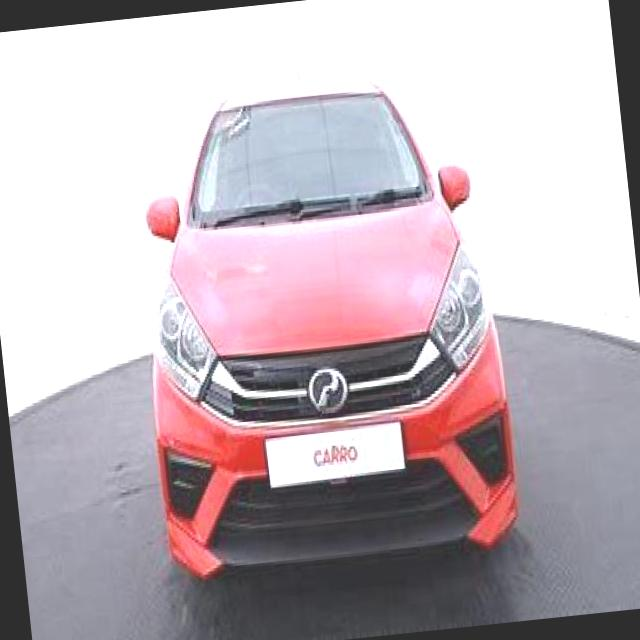PeroduaAxia: (116, 52, 526, 586)
